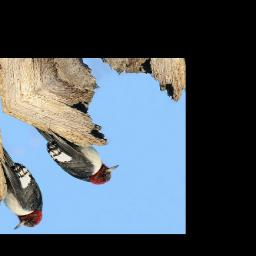Woodpecker: (29, 104, 124, 198)
